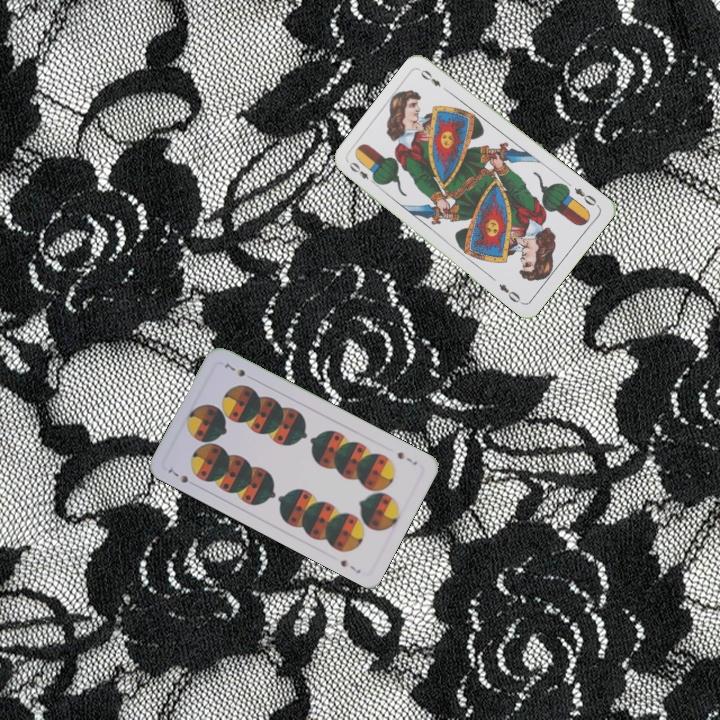EO: (345, 158, 380, 188), (570, 183, 599, 209)
S7: (163, 462, 191, 486), (393, 447, 420, 468)
